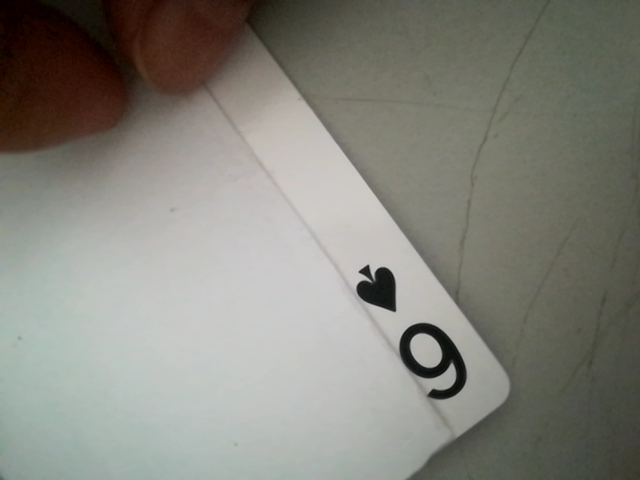ht 6: (345, 256, 484, 422)
